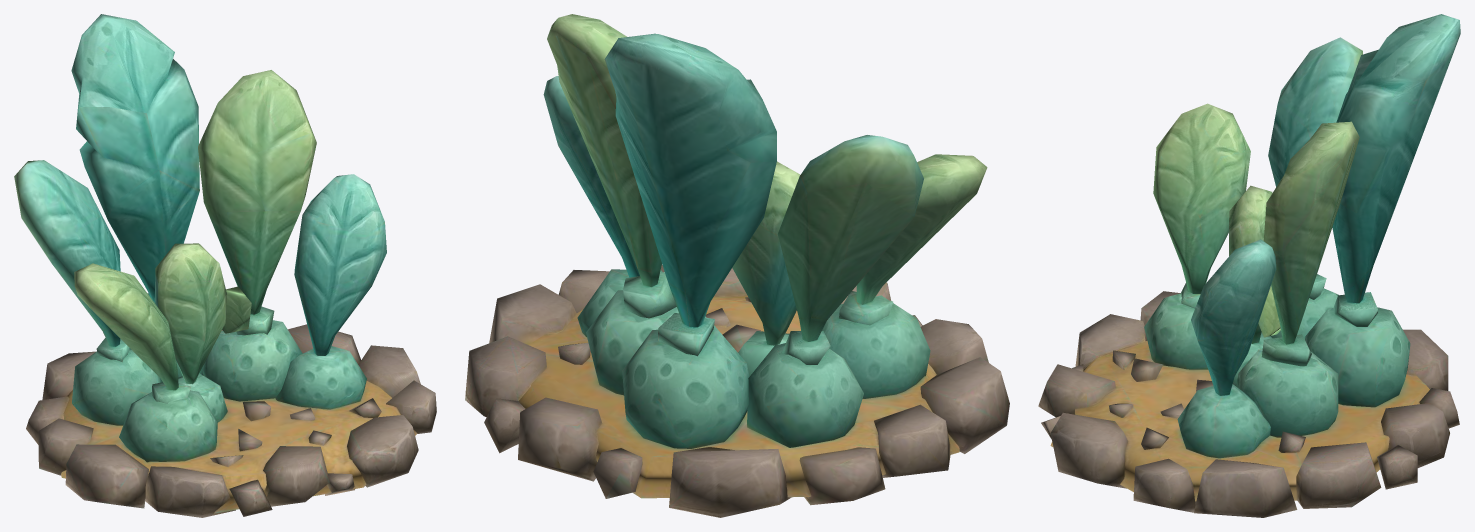
The model's file is Jade_Reef_Garden.glb.
3 views of the same model, side by side, from view 1: azimuth 30°, elevation 25°; view 2: azimuth 150°, elevation 25°; view 3: azimuth 270°, elevation 25° (orthographic). The views are drawn at different scales.
Visible parts, largest first — view 1: mesh_node; view 2: mesh_node; view 3: mesh_node.
Part boxes in pixels (bbox=[...]): mesh_node: bbox=[14, 14, 436, 517]; mesh_node: bbox=[465, 14, 1009, 517]; mesh_node: bbox=[1038, 14, 1460, 517].
Size of the model in its own units: 1 by 0.9785 by 0.9355.
Materials: 1 (1 with a texture image).
